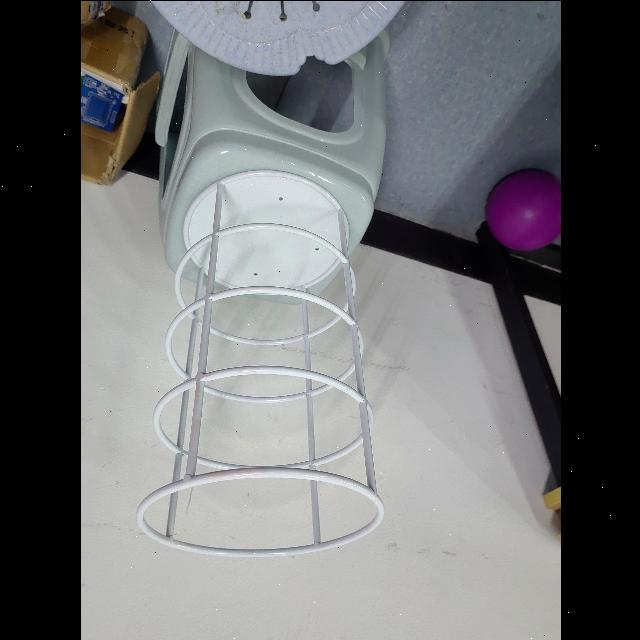S: (131, 164, 385, 560)
